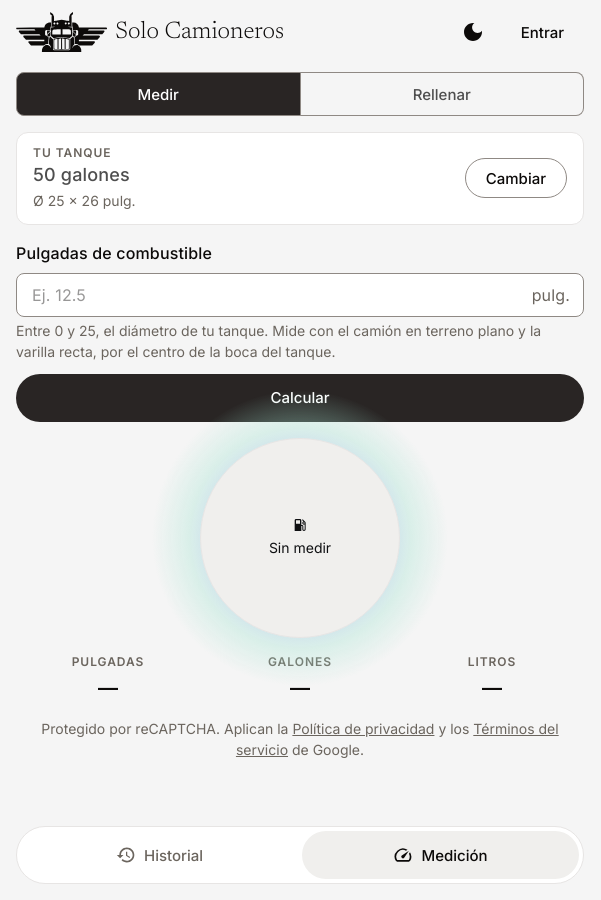
Test case: saves the measurement with the city name and shows the reading
This screenshot has width=601, height=900.
Step 1. Type "12" into the field labelled "Pulgadas de combustible" → (270, 295), box [16,273,524,317]
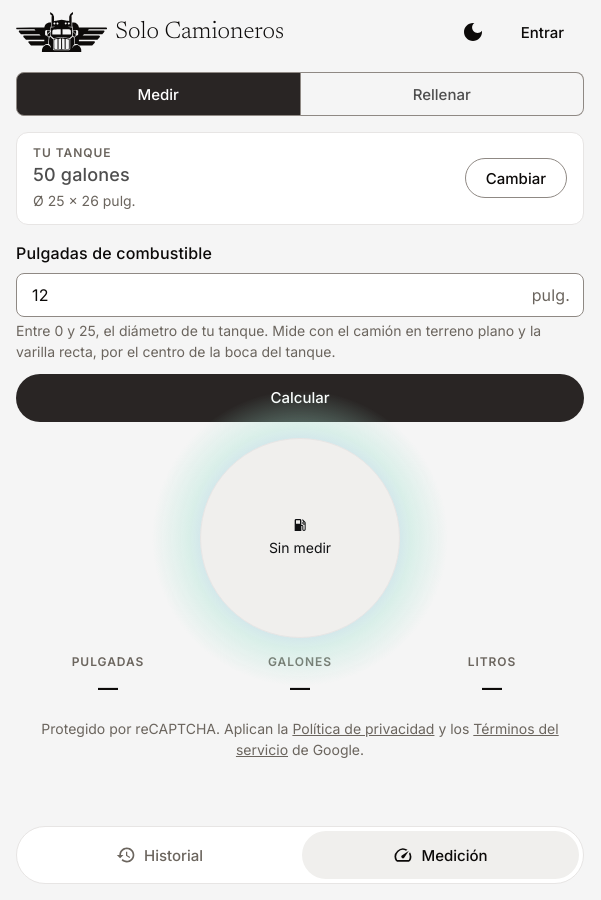
Step 2. Click the button "Calcular" → (300, 398), box [16,374,584,422]
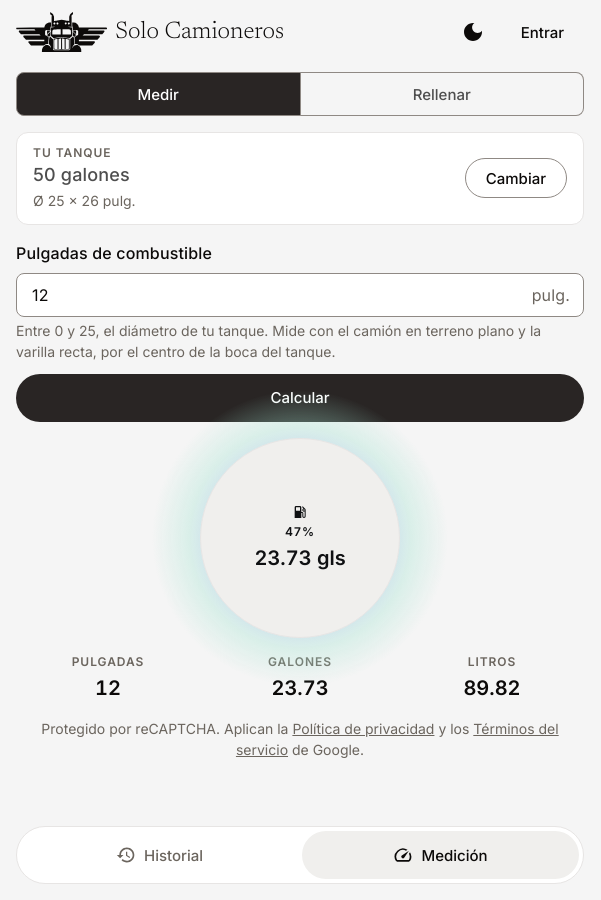
Expected: the text "Protegido por reCAPTCHA" is shown, [41,720,288,736]
Expected: the picture named "Tanque al 47%: 23.73 galones" is shown, [200,438,400,638]
